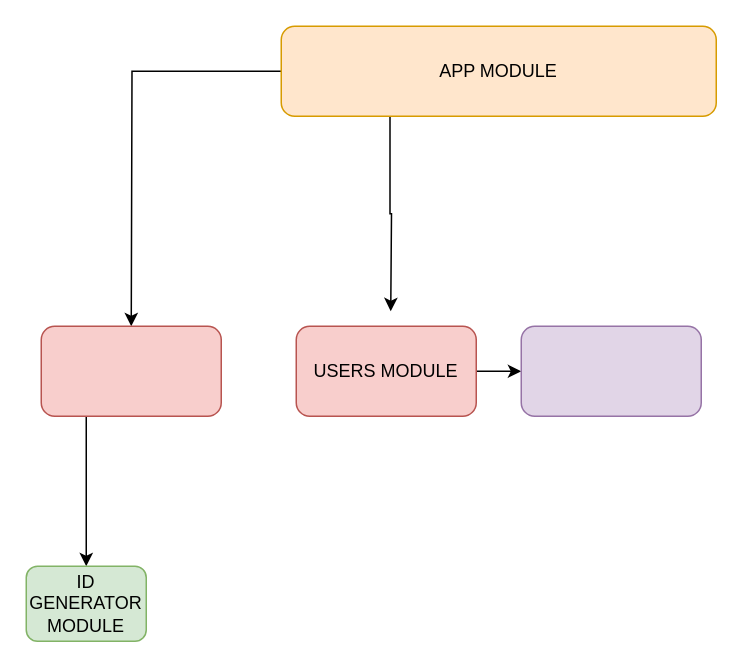
The diagram is 743 pixels wide and 668 high, and some of its shapes have lost their labels. The shapes that lost their labels are listed below. From the top down, each one's box as (x1, y1, x2, y2) in pixels, then its label:
(40, 325, 221, 416): TASKS MODULE
(520, 325, 701, 416): AUTH MODULE
